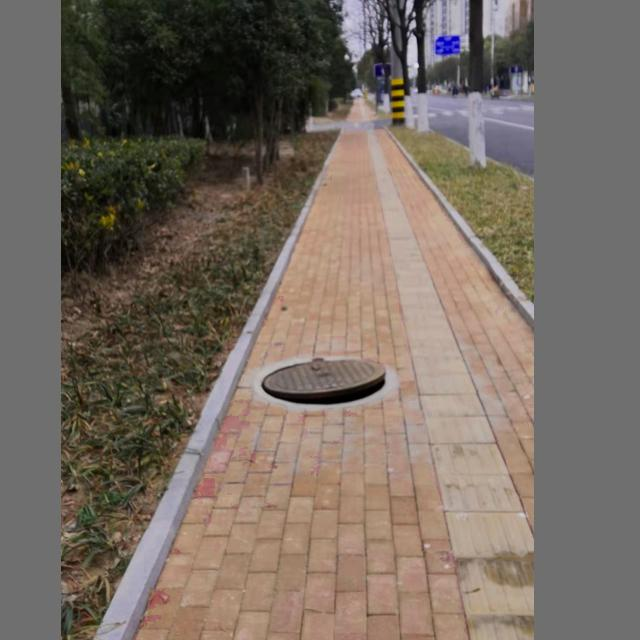uncovered: (256, 355, 391, 408)
